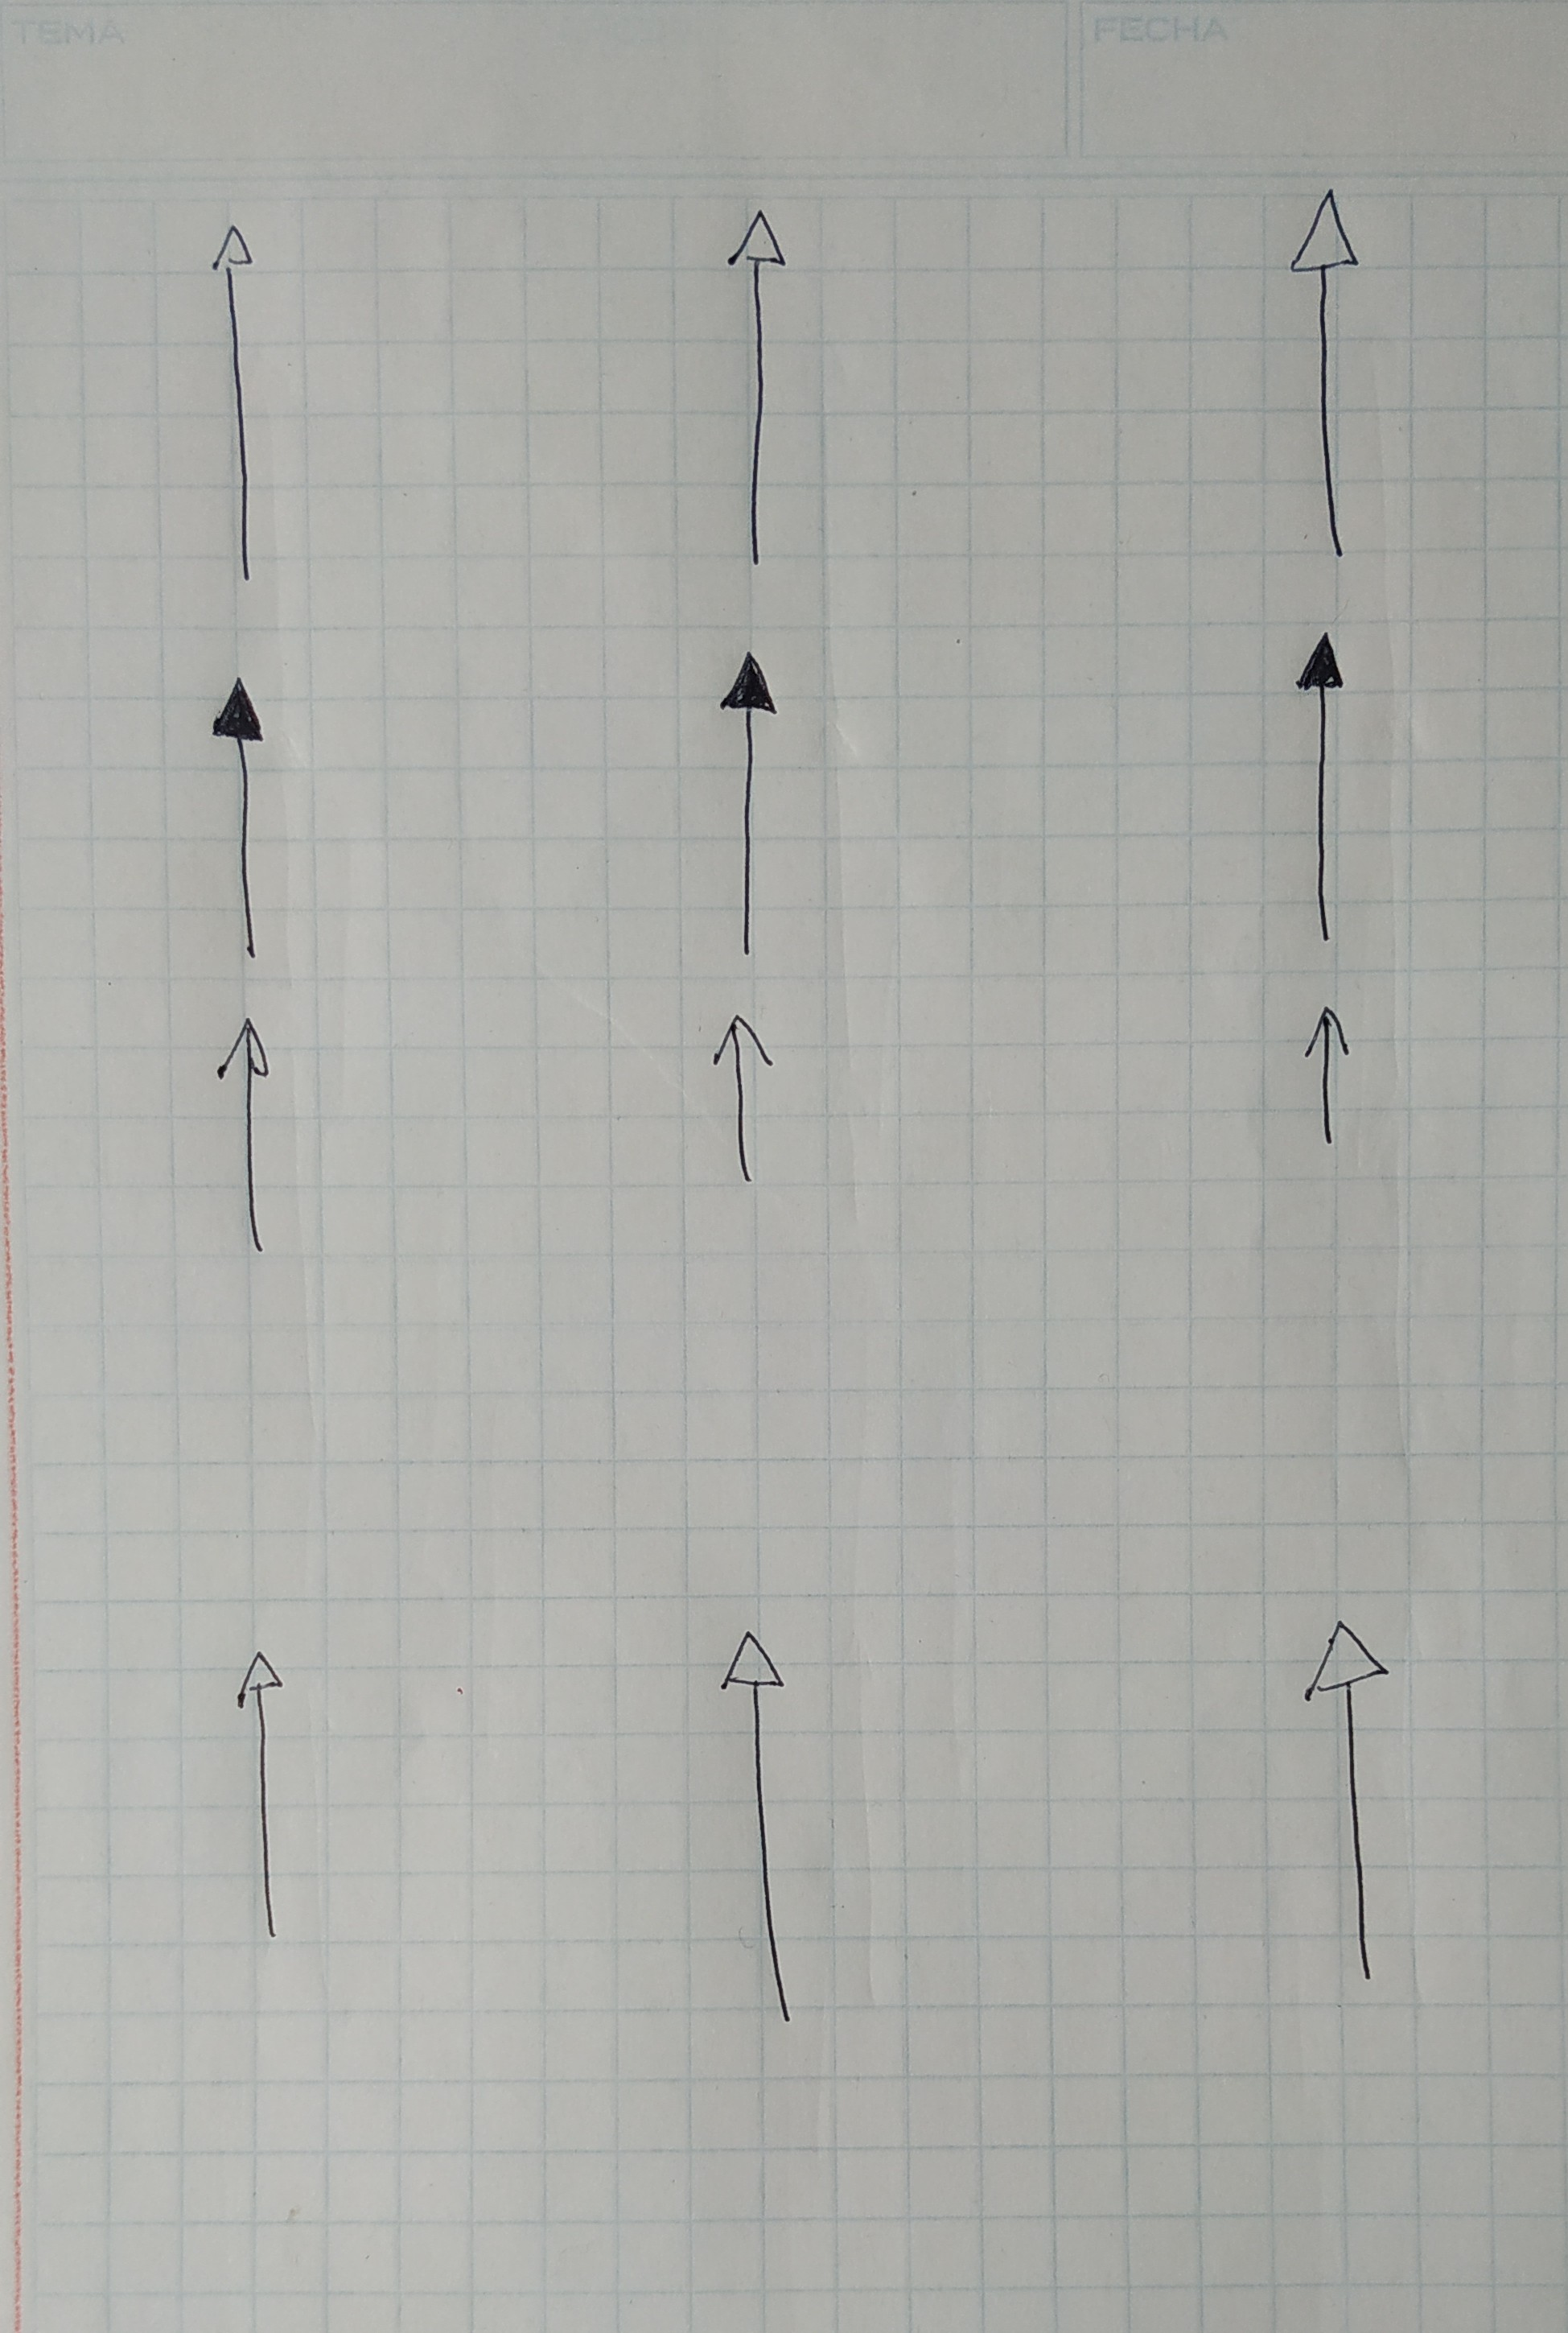arrow_line_up: (710, 1619, 815, 2028), (1298, 1601, 1398, 1986), (1284, 184, 1377, 529), (719, 205, 791, 567), (199, 219, 269, 590), (710, 648, 787, 977), (224, 1636, 301, 1958), (206, 674, 280, 964), (212, 1013, 285, 1251), (1295, 616, 1346, 957), (698, 1013, 784, 1190), (1295, 1003, 1358, 1157)
